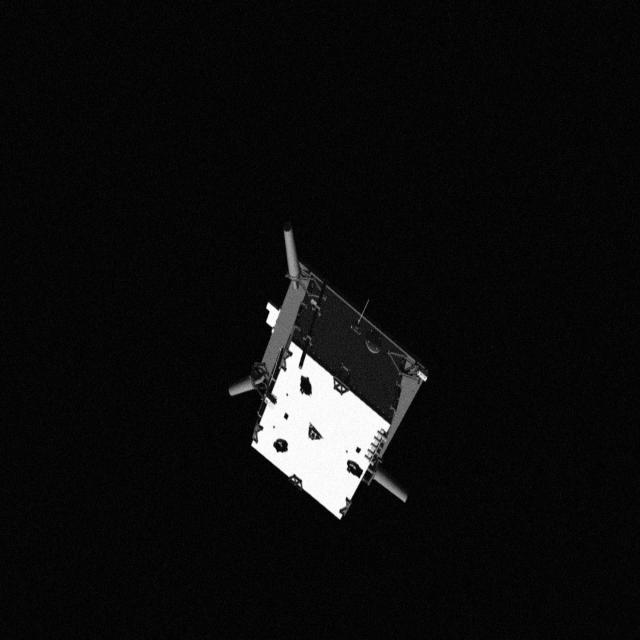medium_debris: (230, 224, 440, 538)
